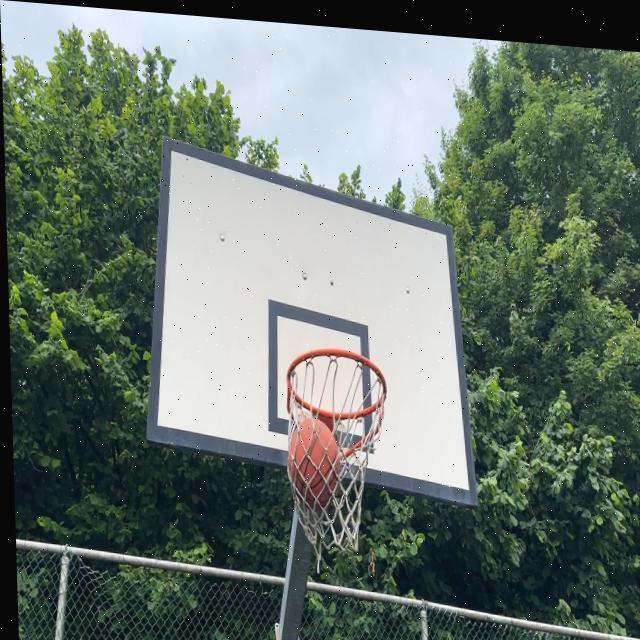Goal: (288, 417, 343, 512)
